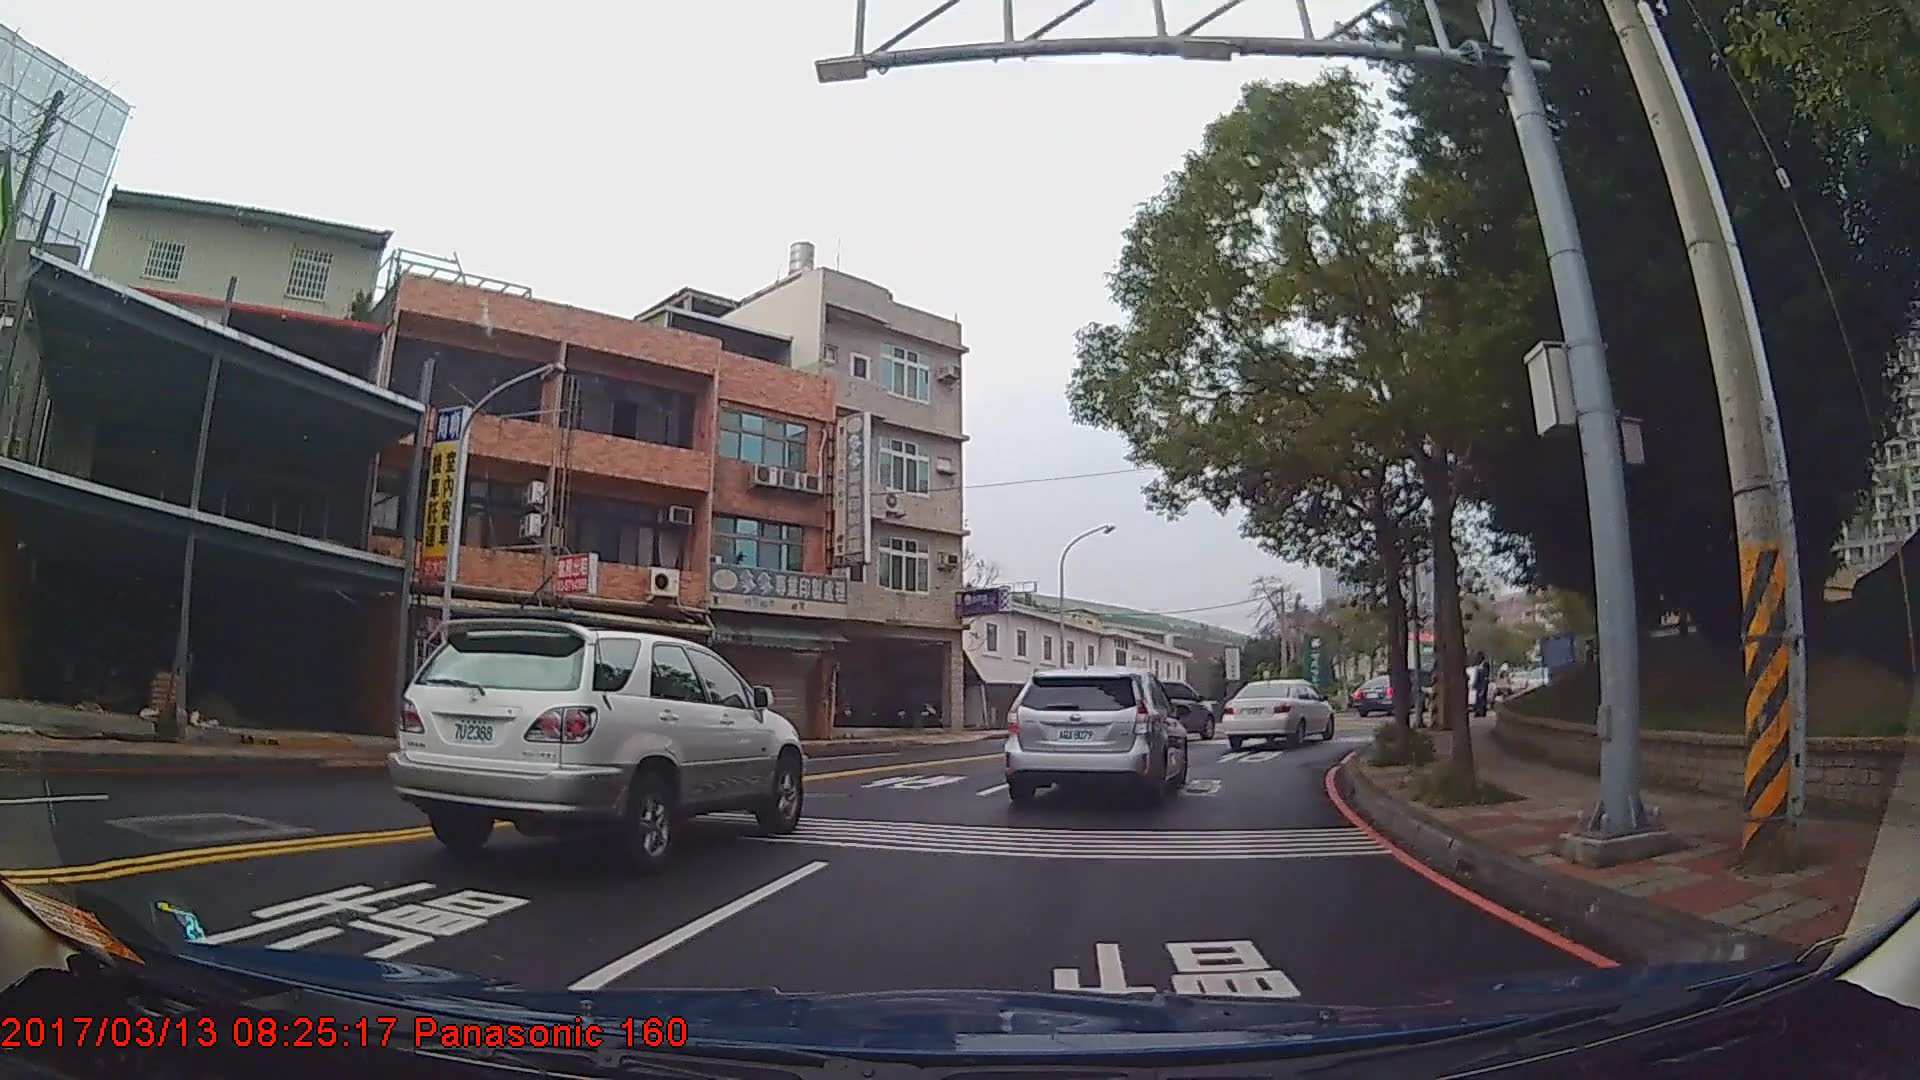vehicle: (390, 616, 804, 870), (996, 665, 1184, 812), (1216, 676, 1332, 746), (1124, 676, 1215, 738), (1352, 674, 1419, 716)
